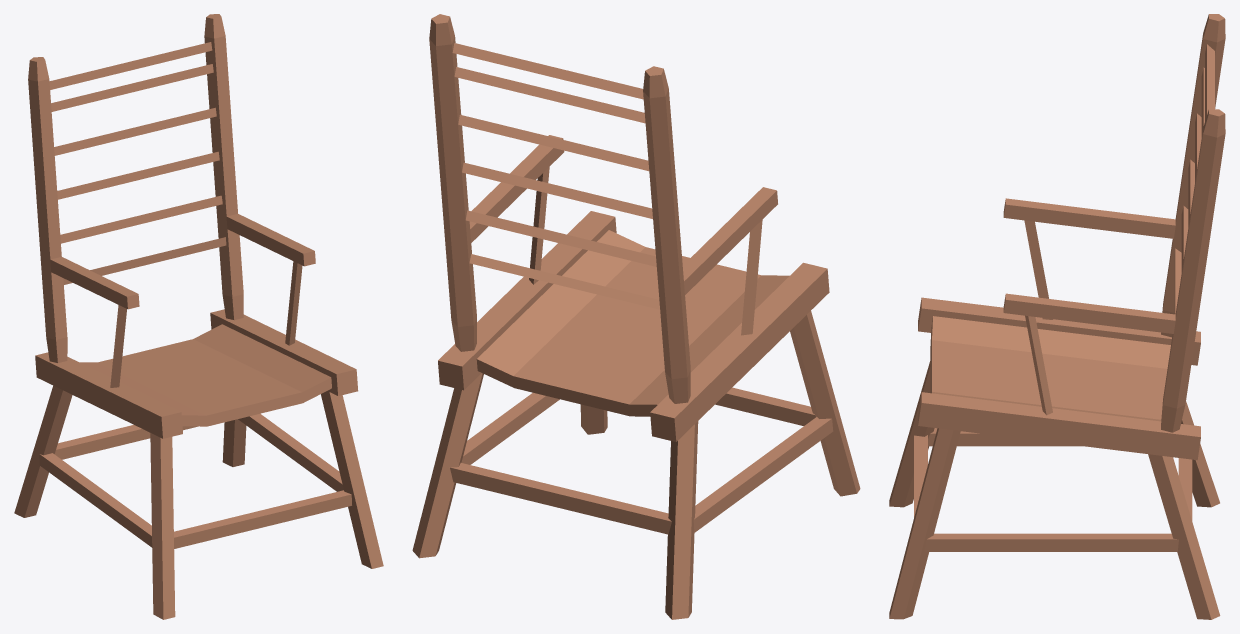
File: misc_chair01.gltf
3 renders of one model, left to right at view 1: azimuth 30°, elevation 25°; view 2: azimuth 150°, elevation 25°; view 3: azimuth 270°, elevation 25°, orthographic. The views are drawn at different scales.
Visible parts, largest first — view 1: misc_chair01; view 2: misc_chair01; view 3: misc_chair01.
Boxes of the visible parts, x1,y1,x2,y2 form: misc_chair01: [14, 14, 383, 619]; misc_chair01: [412, 14, 860, 619]; misc_chair01: [889, 14, 1225, 619].
Size of the model in its own units: 1.13 by 2.13 by 1.31.
